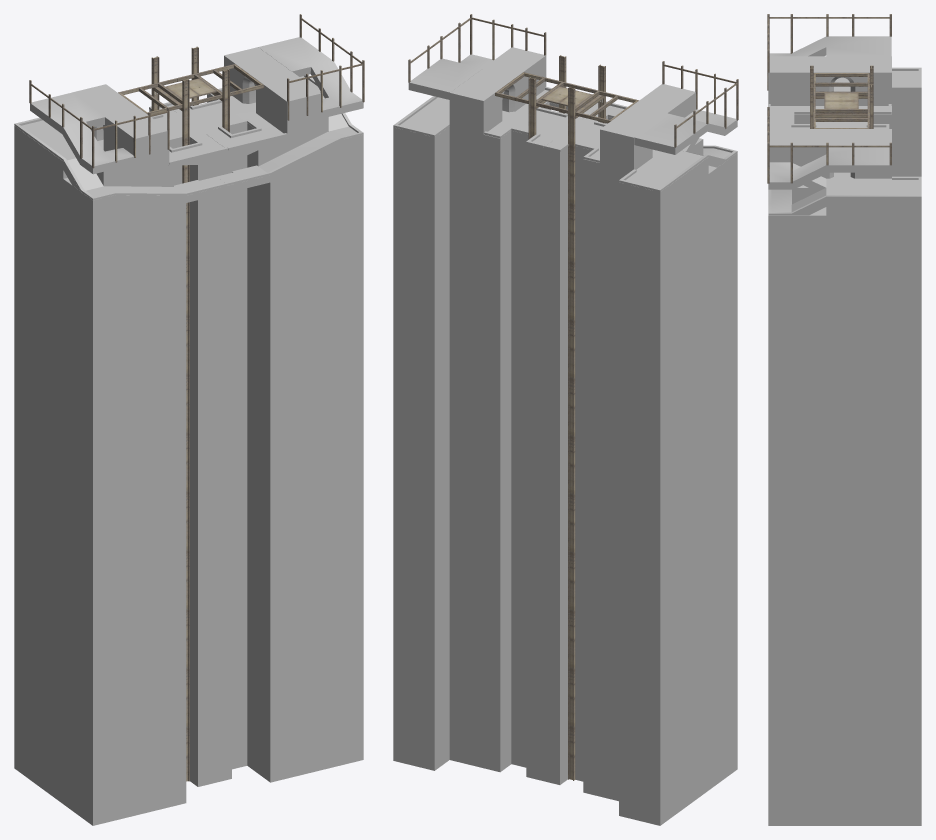
File: SM_LevelTest04_Block00.fbx
The picture shows the model from 3 angles, left to right: view 1: azimuth 30°, elevation 25°; view 2: azimuth 150°, elevation 25°; view 3: azimuth 270°, elevation 25°; orthographic projection. The views are drawn at different scales.
Visible parts, largest first — view 1: SM_LevelTest04_Block00; view 2: SM_LevelTest04_Block00; view 3: SM_LevelTest04_Block00.
Boxes of the visible parts, x1,y1,x2,y2 form: SM_LevelTest04_Block00: (14, 14, 364, 825); SM_LevelTest04_Block00: (393, 14, 738, 825); SM_LevelTest04_Block00: (767, 14, 921, 825).
Bounding box in the file's own units: 3856 × 9530 × 1949.
